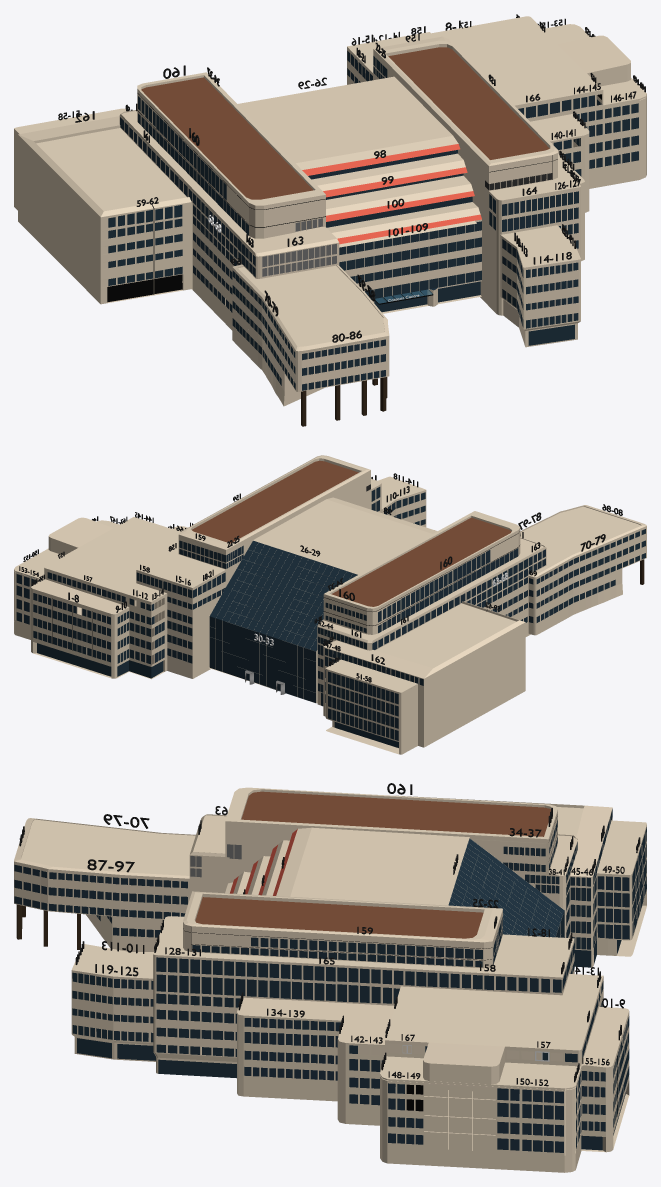
File: CottonsCentreSite.glb
The picture shows the model from 3 angles, top to bottom: view 1: azimuth 30°, elevation 25°; view 2: azimuth 150°, elevation 25°; view 3: azimuth 270°, elevation 25°; orthographic projection. The views are drawn at different scales.
Parts seen in each view (by area): view 1: COTTON, Drop160, Drop163, Drop164, Drop100, Drop62, Drop161, Drop60, Drop105, Drop108, Drop98, Drop59 (+8 smaller); view 2: COTTON, Drop160, Drop26, Drop28, Drop27, Drop30, Drop33, Drop29, Drop32, Drop31, Drop161, Drop159 (+5 smaller); view 3: COTTON, Drop165, Drop159, Drop29, Drop158, Drop28, Drop130, Drop128, Drop129, Drop27, Drop131, Drop150 (+13 smaller).
Boxes of the visible parts, <box> form: COTTON: <box>14,16,646,426</box>; Drop160: <box>138,96,248,235</box>; Drop163: <box>242,243,336,276</box>; Drop164: <box>502,195,554,231</box>; Drop100: <box>326,196,472,227</box>; Drop62: <box>164,205,182,276</box>; Drop161: <box>120,117,192,201</box>; Drop60: <box>127,211,144,282</box>; Drop105: <box>392,235,410,295</box>; Drop108: <box>447,225,465,285</box>; Drop98: <box>308,150,457,179</box>; Drop59: <box>108,215,125,285</box>; COTTON: <box>14,455,646,754</box>; Drop160: <box>325,548,518,633</box>; Drop26: <box>210,540,283,626</box>; Drop28: <box>266,559,333,642</box>; Drop27: <box>241,550,308,634</box>; Drop30: <box>209,616,240,677</box>; Drop33: <box>291,643,316,702</box>; Drop29: <box>291,567,357,651</box>; Drop32: <box>266,635,291,694</box>; Drop31: <box>241,627,265,686</box>; Drop161: <box>333,593,465,649</box>; Drop159: <box>179,540,225,568</box>; COTTON: <box>14,787,646,1172</box>; Drop165: <box>247,962,403,1003</box>; Drop159: <box>192,917,502,967</box>; Drop29: <box>464,838,564,927</box>; Drop158: <box>405,960,569,992</box>; Drop28: <box>458,856,558,937</box>; Drop130: <box>201,960,222,1056</box>; Drop128: <box>156,957,177,1053</box>; Drop129: <box>179,958,200,1054</box>; Drop27: <box>453,874,540,936</box>; Drop131: <box>224,961,245,1056</box>; Drop150: <box>497,1088,519,1150</box>.
Bounding box in the file's own units: 48.49 × 12.23 × 45.44.
Materials: 12 (1 with a texture image).
